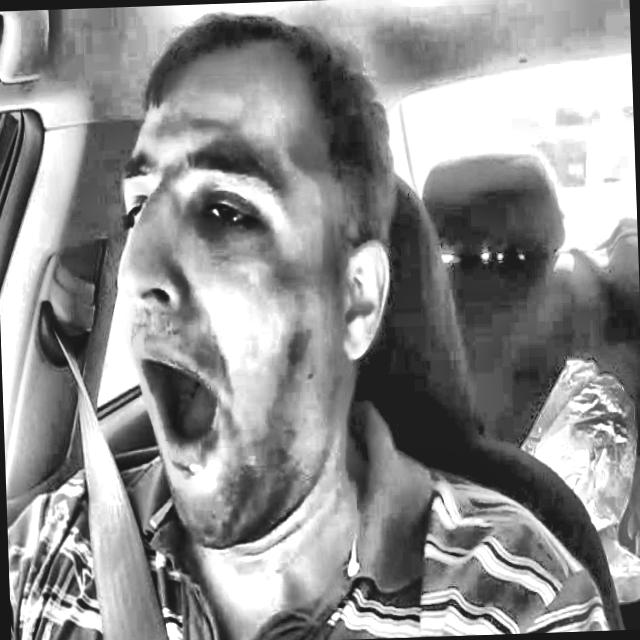open_eyes: (192, 187, 264, 251)
open_mouth: (121, 330, 243, 489)
